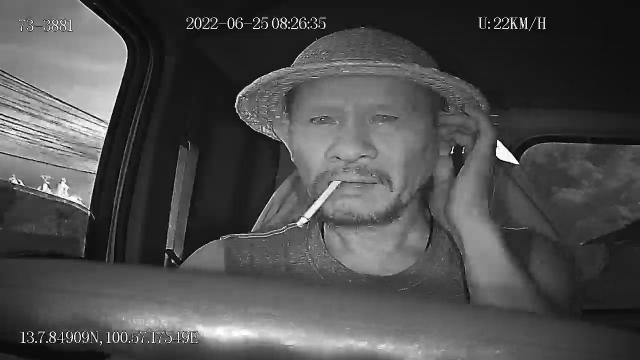SafeDriving: (363, 104, 405, 128), (303, 106, 343, 128)
Smoking: (298, 180, 342, 226)
